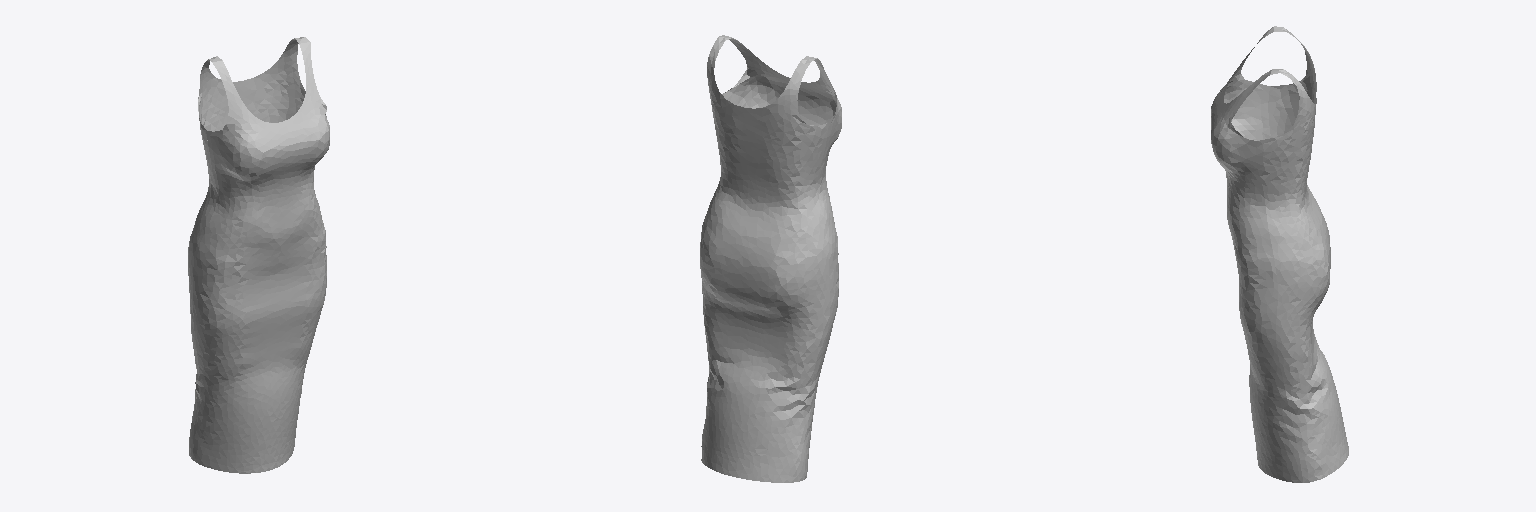
File: small_blackBodycon_noinside3.obj
3 renders of one model, left to right at view 1: azimuth 30°, elevation 25°; view 2: azimuth 150°, elevation 25°; view 3: azimuth 270°, elevation 25°, orthographic.
Parts seen in each view (by area): view 1: small_blackBodycon_noinside:Mesh small_blackBodycon_noinside:pol; view 2: small_blackBodycon_noinside:Mesh small_blackBodycon_noinside:pol; view 3: small_blackBodycon_noinside:Mesh small_blackBodycon_noinside:pol.
Part boxes in pixels (left/top/right/bottom): small_blackBodycon_noinside:Mesh small_blackBodycon_noinside:pol: left=188, top=37, right=329, bottom=473; small_blackBodycon_noinside:Mesh small_blackBodycon_noinside:pol: left=700, top=35, right=841, bottom=482; small_blackBodycon_noinside:Mesh small_blackBodycon_noinside:pol: left=1211, top=26, right=1348, bottom=482.
Bounding box in the file's own units: 3.26 × 10.29 × 3.13.